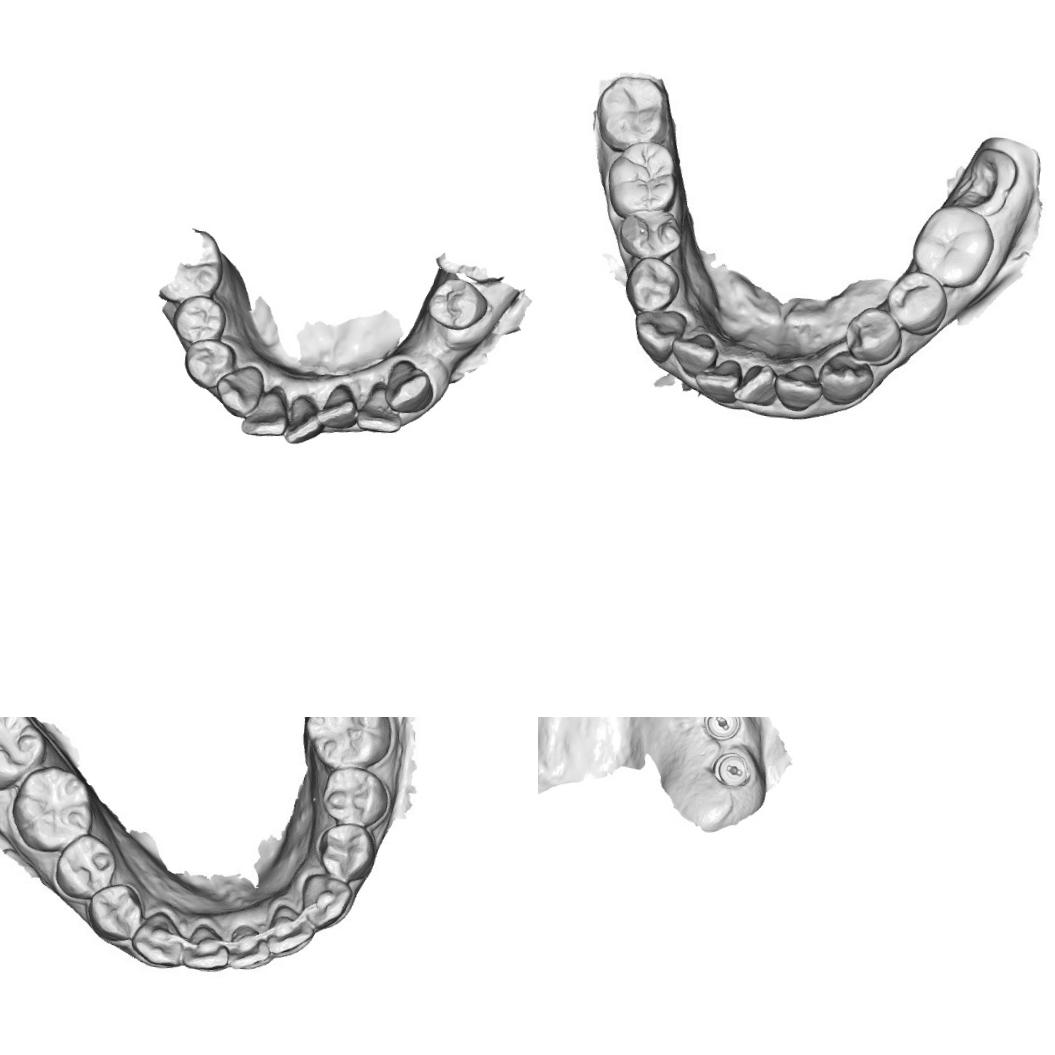canine: (631, 300, 689, 364), (296, 872, 355, 932), (820, 349, 882, 406), (130, 909, 186, 969), (384, 358, 436, 415), (212, 362, 264, 419)
implant_minus: (711, 748, 753, 790), (700, 717, 743, 742)
incisor: (691, 354, 748, 408), (353, 380, 404, 433), (239, 386, 289, 440), (180, 918, 230, 970), (674, 331, 728, 378), (227, 919, 274, 973), (269, 902, 314, 956), (316, 381, 358, 432), (777, 362, 821, 410), (280, 398, 321, 447), (735, 364, 775, 408)
molar: (906, 201, 997, 290), (11, 763, 95, 852), (600, 136, 684, 218), (592, 70, 667, 156), (154, 223, 225, 306), (304, 717, 390, 769), (0, 717, 47, 792)
premolar: (882, 270, 948, 336), (616, 252, 682, 318), (323, 762, 386, 826), (615, 206, 688, 261), (839, 304, 902, 366), (424, 276, 490, 332), (318, 824, 380, 881), (58, 836, 114, 897), (170, 293, 228, 348), (181, 334, 236, 391), (87, 886, 142, 940)
